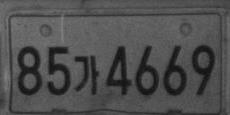4: (105, 45, 133, 95)
5: (47, 45, 71, 95)
6: (161, 45, 187, 96), (134, 45, 159, 95)
8: (16, 45, 43, 96)
9: (190, 43, 216, 96)
가: (73, 54, 99, 95)
